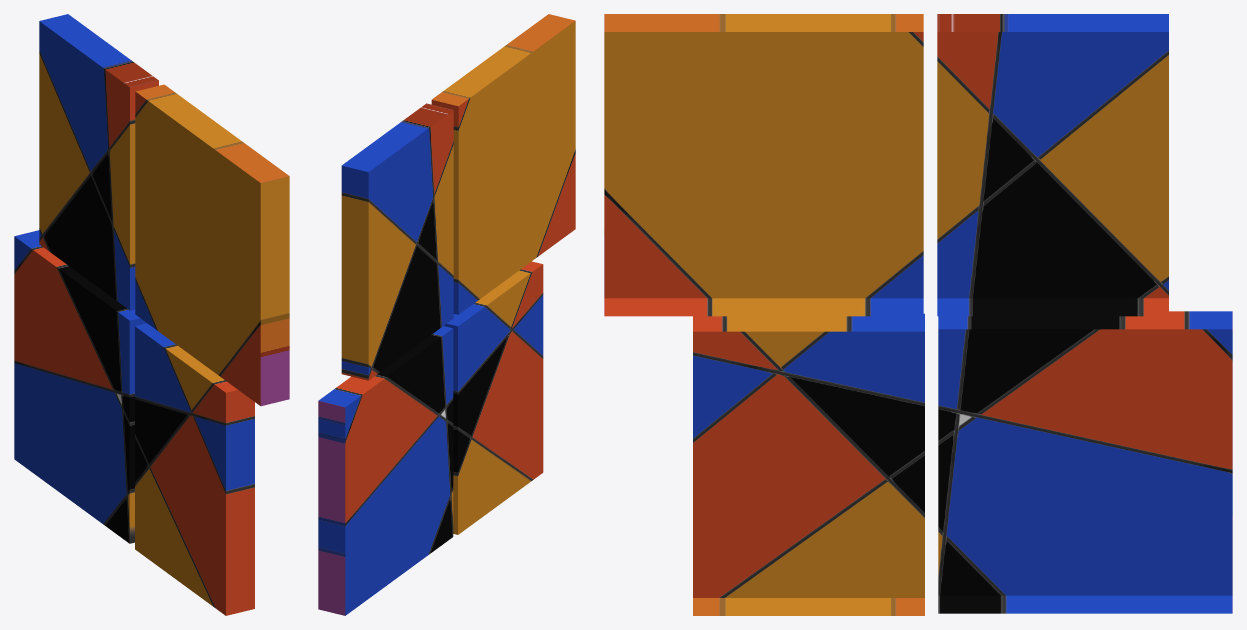
File: SM_Furniture_Gallery_Picture_03.fbx
3 views of the same model, side by side, from view 1: azimuth 30°, elevation 25°; view 2: azimuth 150°, elevation 25°; view 3: azimuth 270°, elevation 25° (orthographic). The views are drawn at different scales.
Parts seen in each view (by area): view 1: SM_Furniture_Gallery_Picture_03; view 2: SM_Furniture_Gallery_Picture_03; view 3: SM_Furniture_Gallery_Picture_03.
Part boxes in pixels (x1=…): SM_Furniture_Gallery_Picture_03: x1=14, y1=14, x2=289, y2=615; SM_Furniture_Gallery_Picture_03: x1=318, y1=14, x2=575, y2=615; SM_Furniture_Gallery_Picture_03: x1=604, y1=14, x2=1232, y2=615.
Size of the model in its own units: 6.75 by 99.64 by 102.
1 material, 1 textured.
